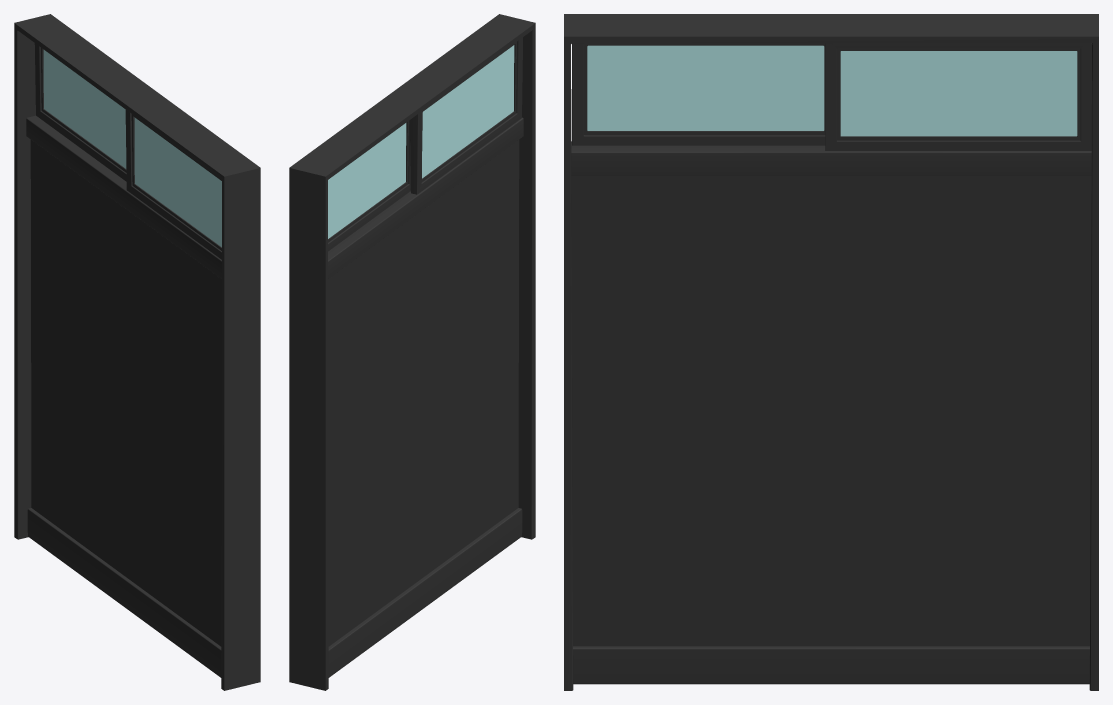
The model's file is SM_Partition_03.fbx.
The picture shows the model from 3 angles, left to right: view 1: azimuth 30°, elevation 25°; view 2: azimuth 150°, elevation 25°; view 3: azimuth 270°, elevation 25°; orthographic projection. The views are drawn at different scales.
Visible parts, largest first — view 1: SM_Partition_03_LOD0; view 2: SM_Partition_03_LOD0; view 3: SM_Partition_03_LOD0.
Boxes of the visible parts, x1,y1,x2,y2 form: SM_Partition_03_LOD0: (14,14,260,690); SM_Partition_03_LOD0: (289,14,535,690); SM_Partition_03_LOD0: (564,14,1098,690).
Size of the model in its own units: 20 by 200 by 270.
